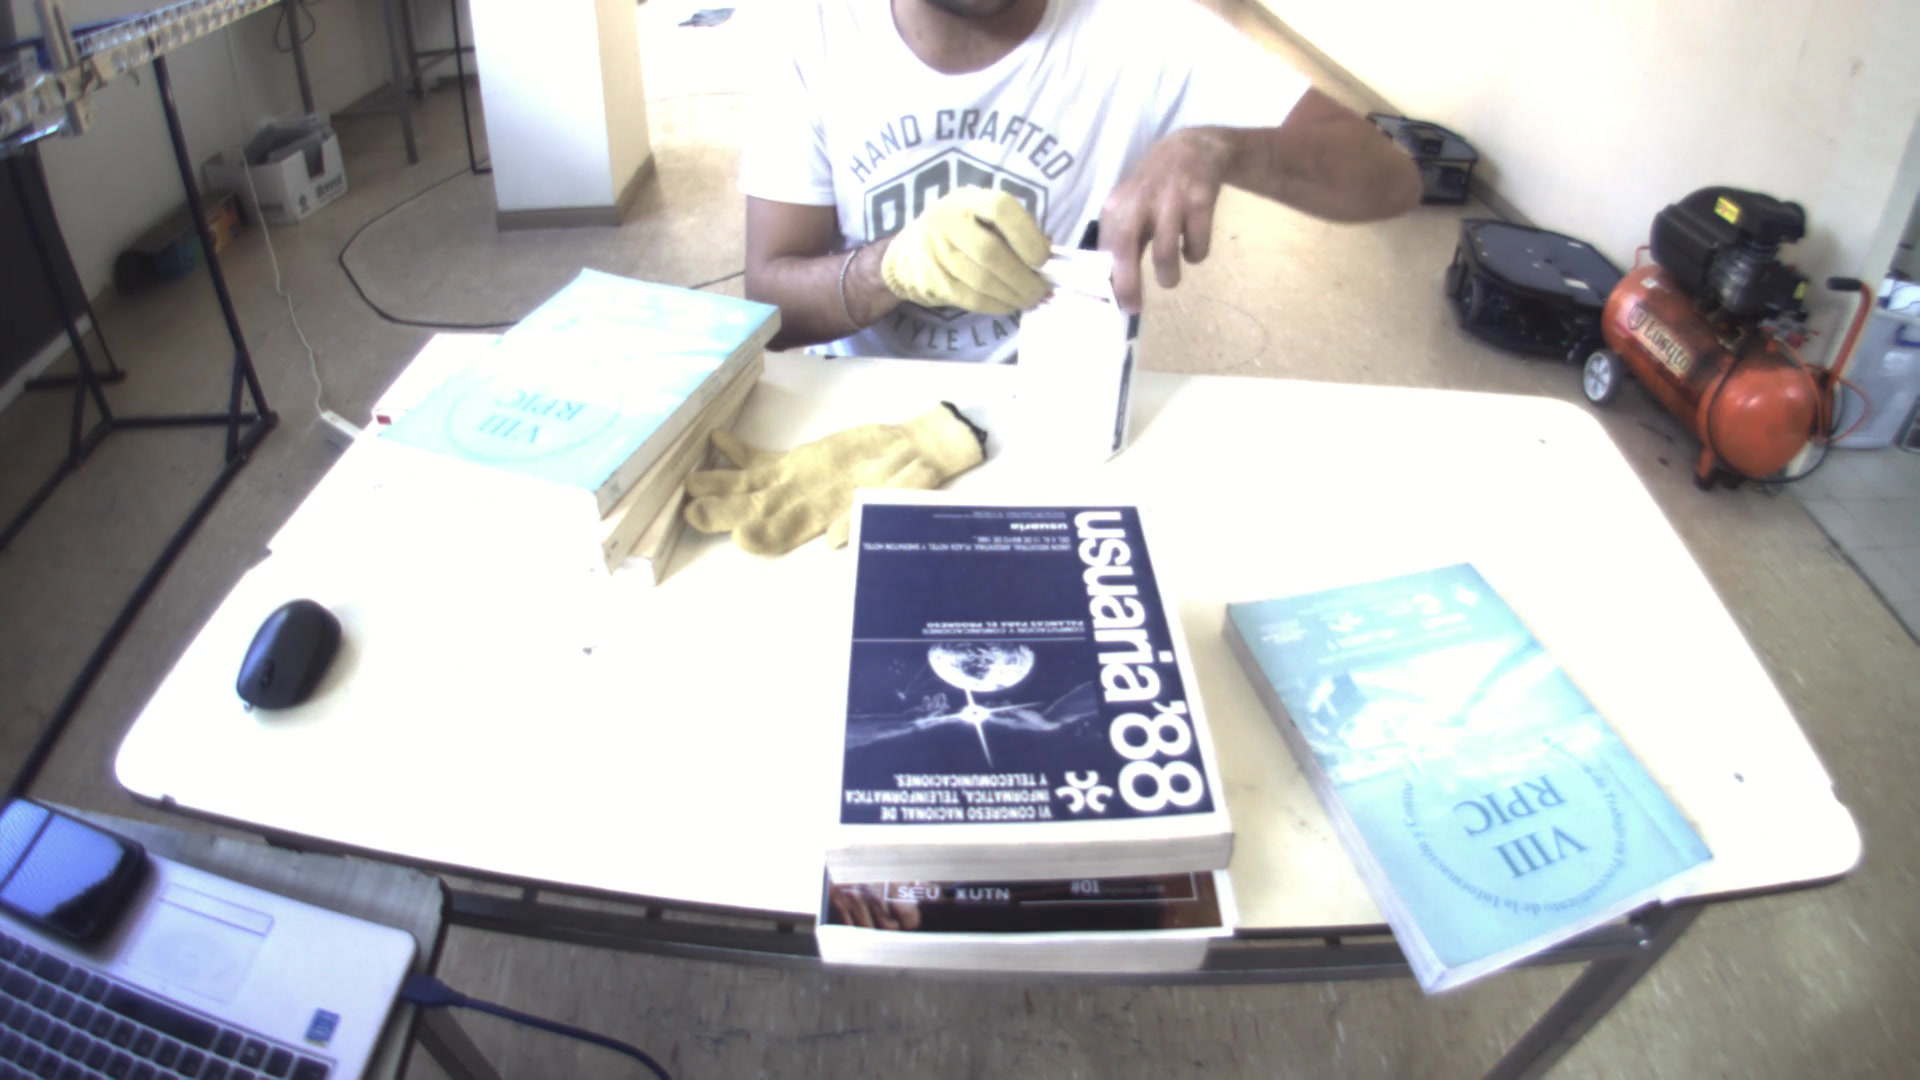hand: (1077, 108, 1236, 302), (872, 178, 1063, 320)
